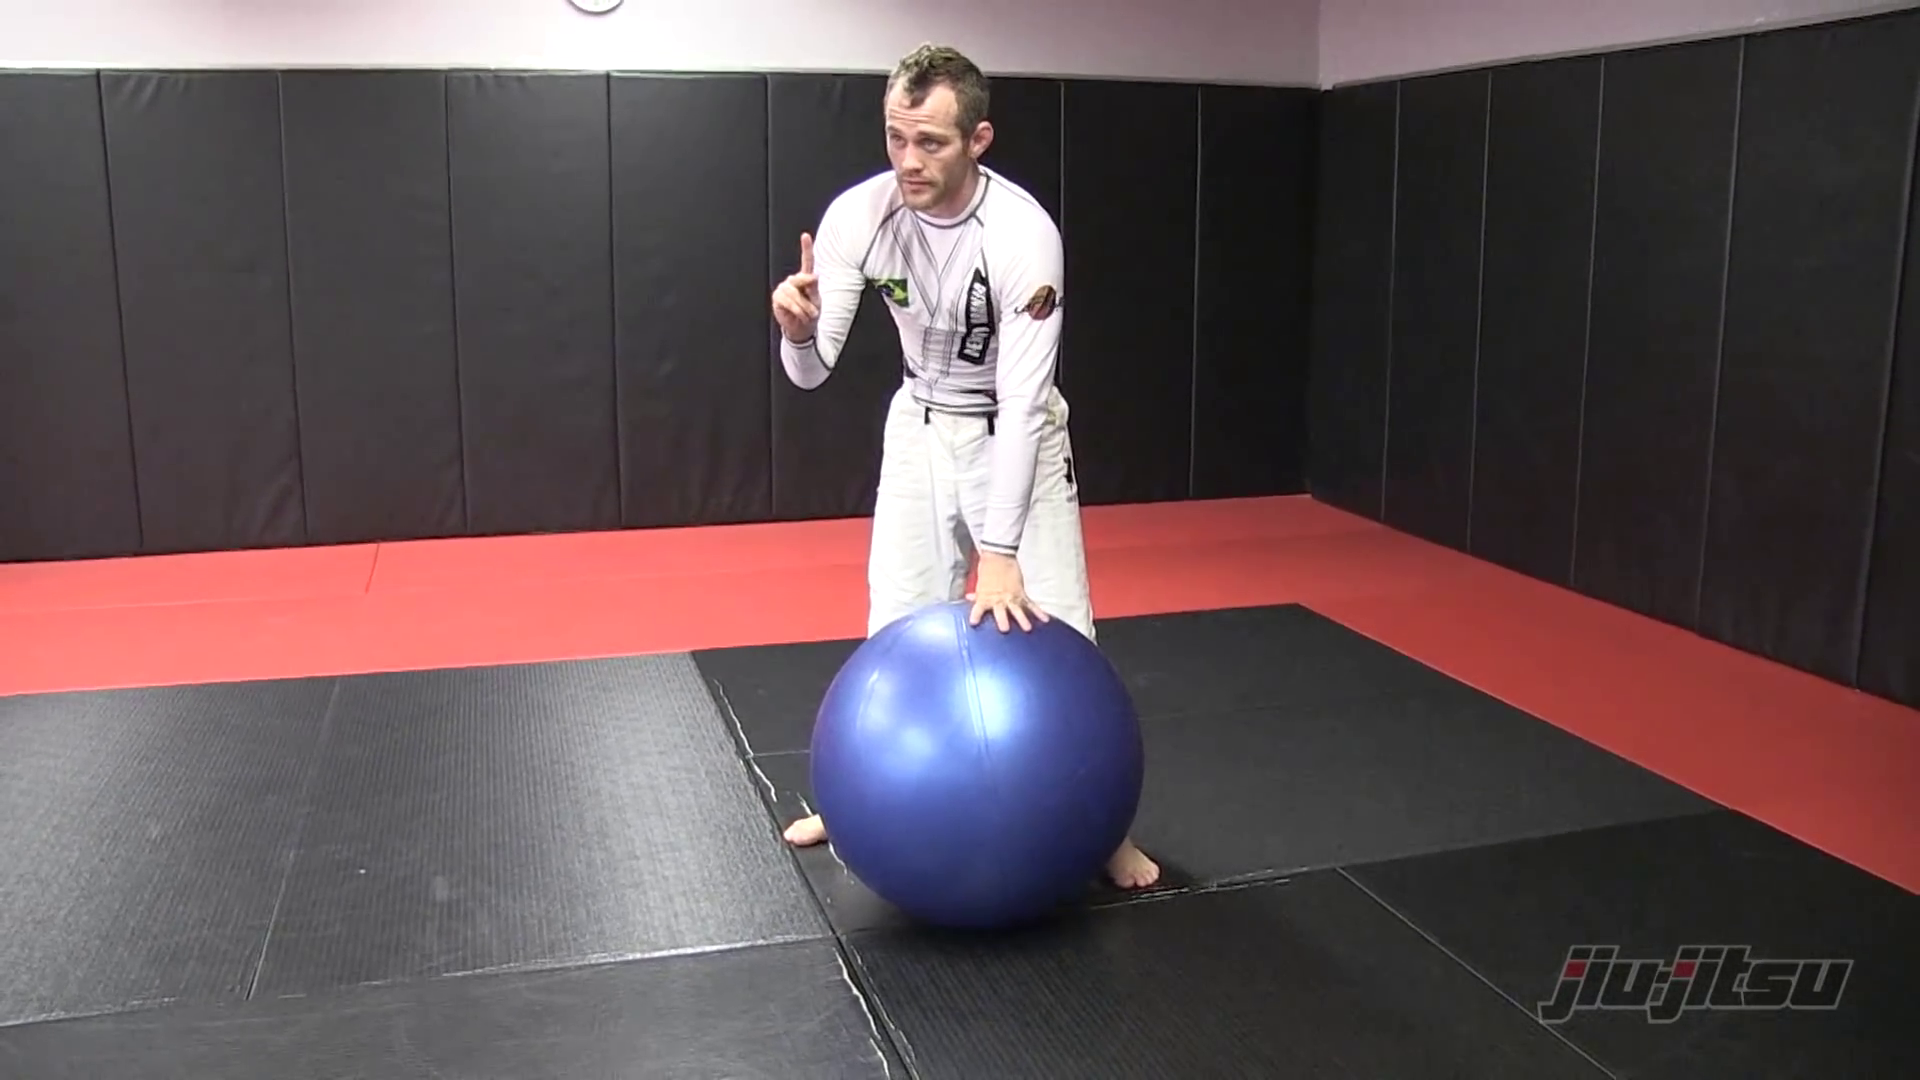yogaball: (773, 578, 1176, 953)
